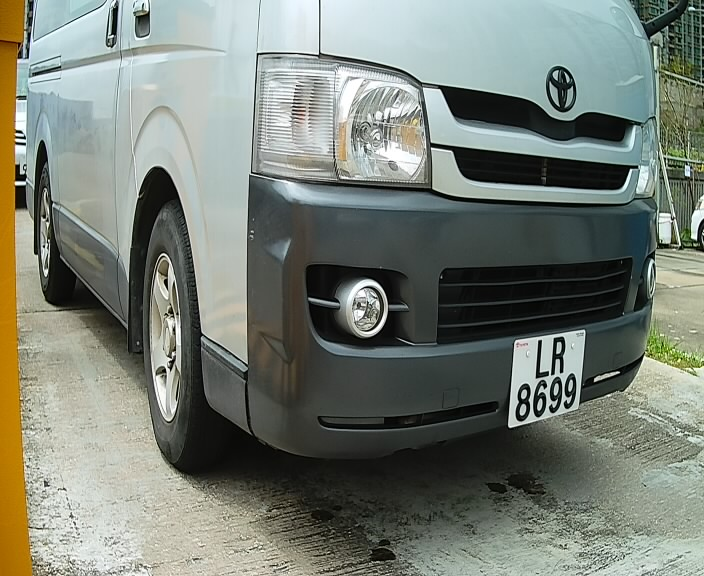Car: (3, 2, 689, 503)
License Plate: (500, 322, 596, 435)
